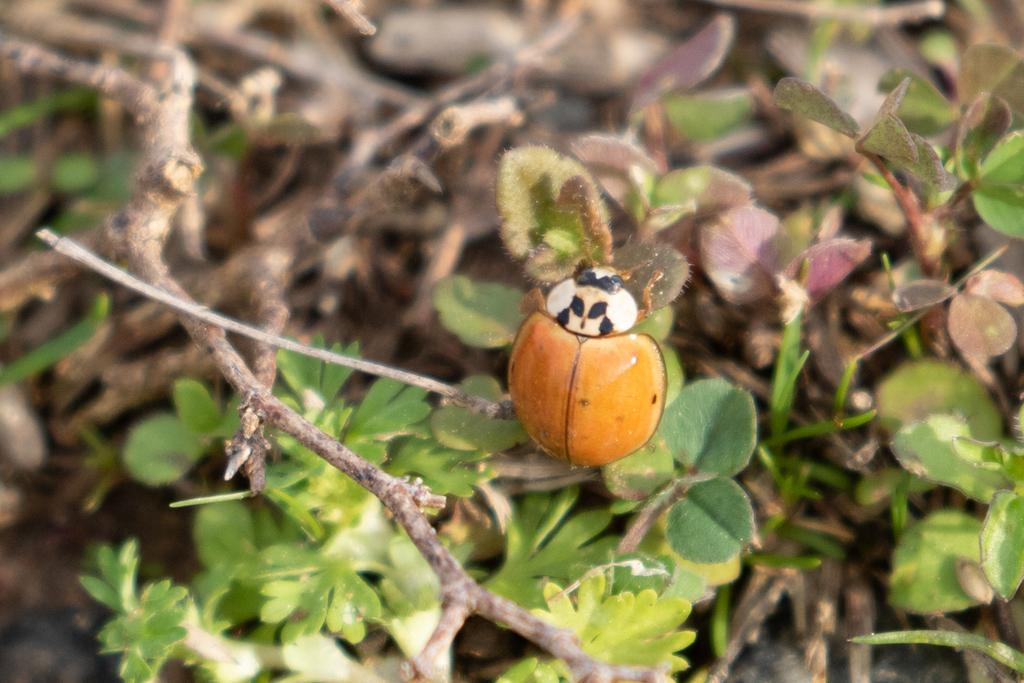ladybug: (507, 255, 669, 469)
